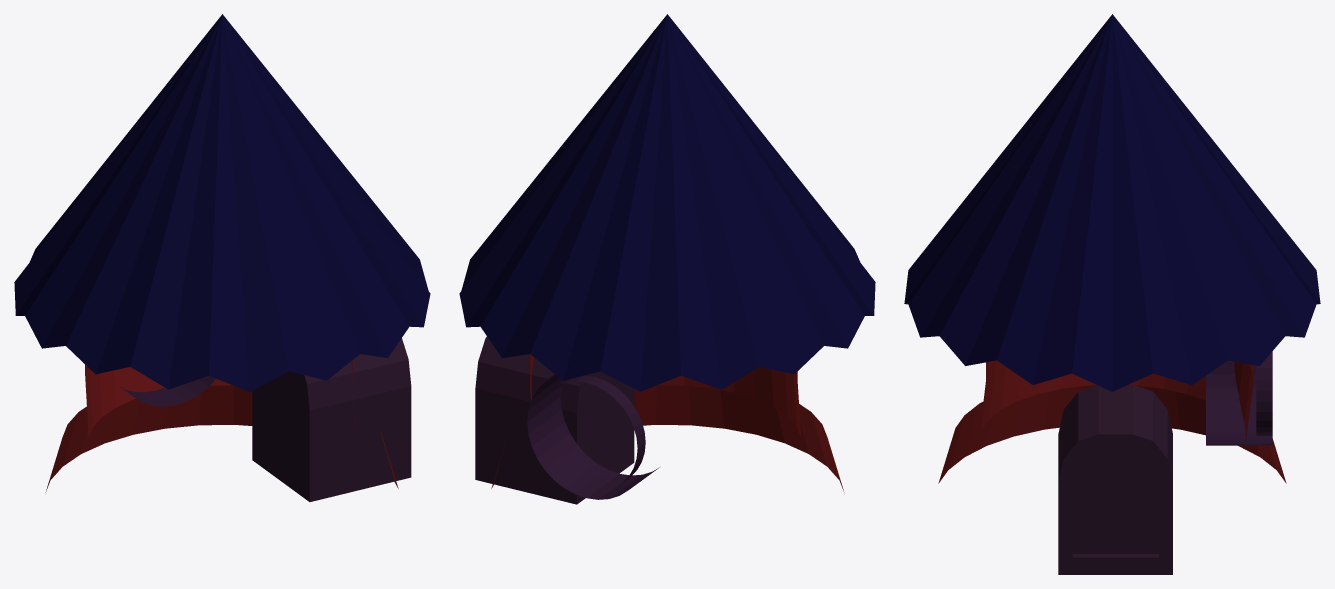
The model's file is house3.fbx.
3 views of the same model, side by side, from view 1: azimuth 30°, elevation 25°; view 2: azimuth 150°, elevation 25°; view 3: azimuth 270°, elevation 25° (orthographic).
Visible parts, largest first — view 1: Circle; view 2: Circle; view 3: Circle.
Part boxes in pixels (left/top/right/bottom): Circle: left=14, top=14, right=430, bottom=501; Circle: left=459, top=14, right=875, bottom=504; Circle: left=904, top=14, right=1320, bottom=574.
Bounding box in the file's own units: 523 × 672 × 523.
